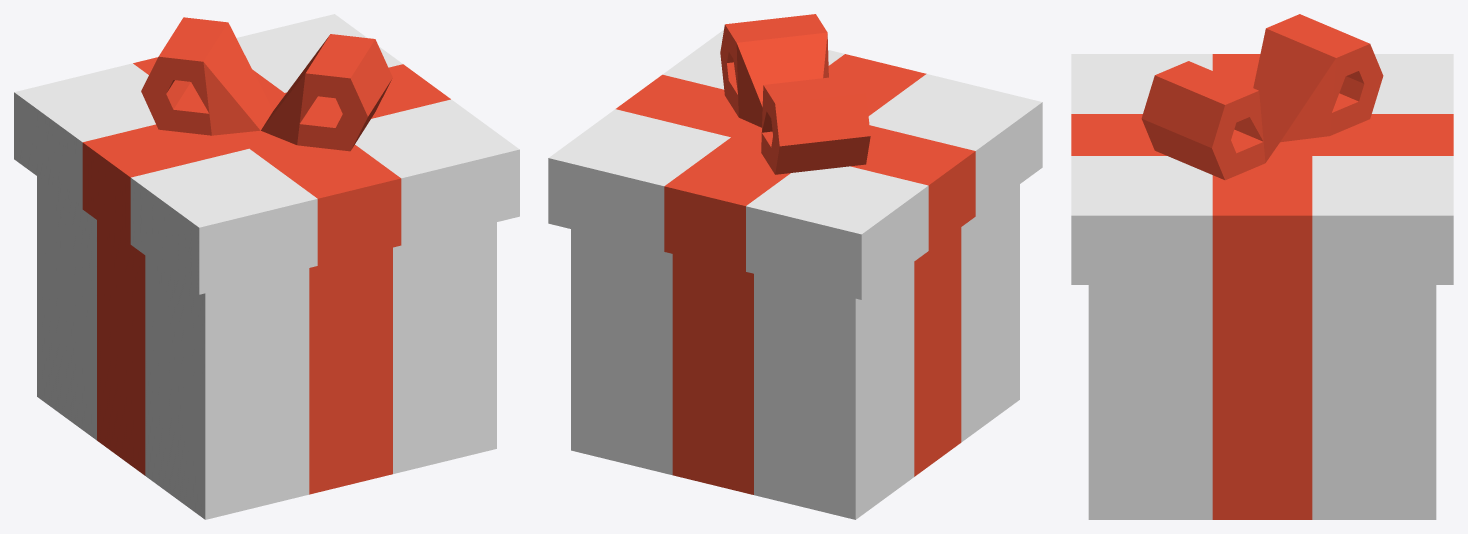
File: present.fbx
3 views of the same model, side by side, from view 1: azimuth 30°, elevation 25°; view 2: azimuth 150°, elevation 25°; view 3: azimuth 270°, elevation 25° (orthographic). The views are drawn at different scales.
Parts seen in each view (by area): view 1: present, lid; view 2: present, lid; view 3: lid, present.
Boxes of the visible parts, box(x1,y1,x2,y2) form: present: box(37, 176, 496, 519); lid: box(14, 14, 519, 294); present: box(571, 184, 1019, 519); lid: box(548, 14, 1042, 299); lid: box(1071, 14, 1453, 284); present: box(1088, 285, 1436, 519).
Size of the model in its own units: 3.73 by 4.16 by 3.73.
